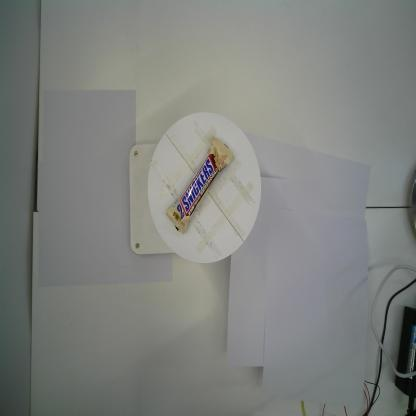Chocolate: (164, 134, 235, 236)
